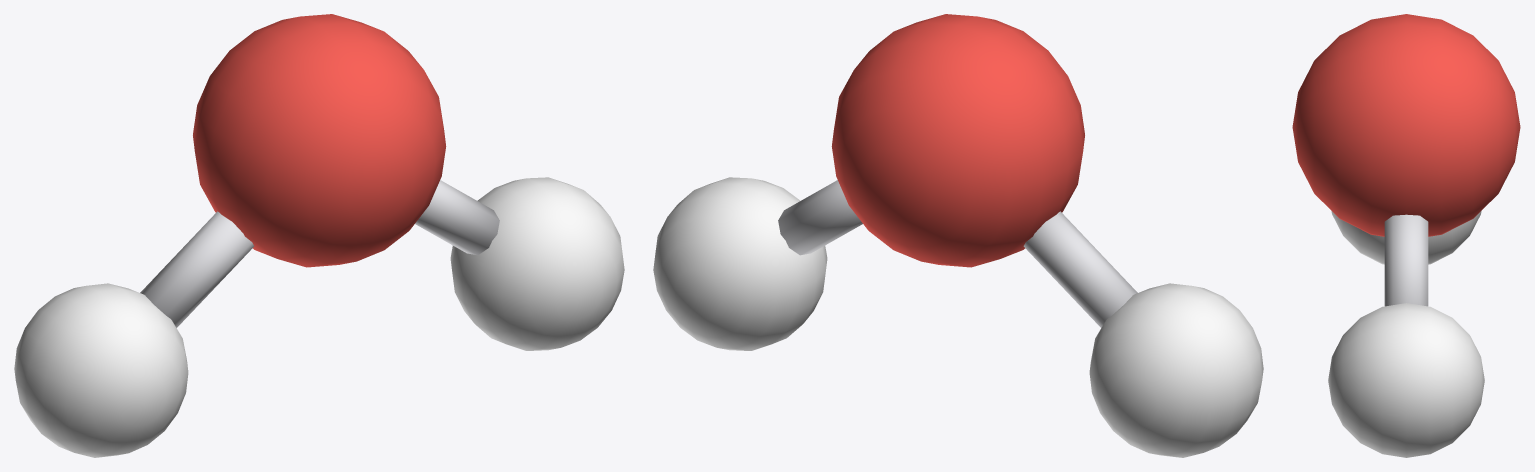
The model's file is Mol_H2O_Agua.glb.
The picture shows the model from 3 angles, left to right: view 1: azimuth 30°, elevation 25°; view 2: azimuth 150°, elevation 25°; view 3: azimuth 270°, elevation 25°; orthographic projection. The views are drawn at different scales.
Parts seen in each view (by area): view 1: H2O_O, H2O_H2, H2O_H1, H2O_Enlace_2, H2O_Enlace_1; view 2: H2O_O, H2O_H2, H2O_H1, H2O_Enlace_2, H2O_Enlace_1; view 3: H2O_O, H2O_H1, H2O_Enlace_1, H2O_H2.
Boxes of the visible parts, <box> form: H2O_O: <box>193,14,446,267</box>; H2O_H2: <box>14,283,188,457</box>; H2O_H1: <box>450,177,624,350</box>; H2O_Enlace_2: <box>140,211,254,327</box>; H2O_Enlace_1: <box>415,180,499,255</box>; H2O_O: <box>831,14,1084,267</box>; H2O_H2: <box>1089,283,1263,457</box>; H2O_H1: <box>653,177,827,350</box>; H2O_Enlace_2: <box>1023,211,1137,327</box>; H2O_Enlace_1: <box>778,180,862,255</box>; H2O_O: <box>1292,14,1520,236</box>; H2O_H1: <box>1328,303,1484,457</box>; H2O_Enlace_1: <box>1384,214,1428,306</box>; H2O_H2: <box>1331,211,1481,264</box>.
Bounding box in the file's own units: 0.0852 × 0.0515 × 0.032.
